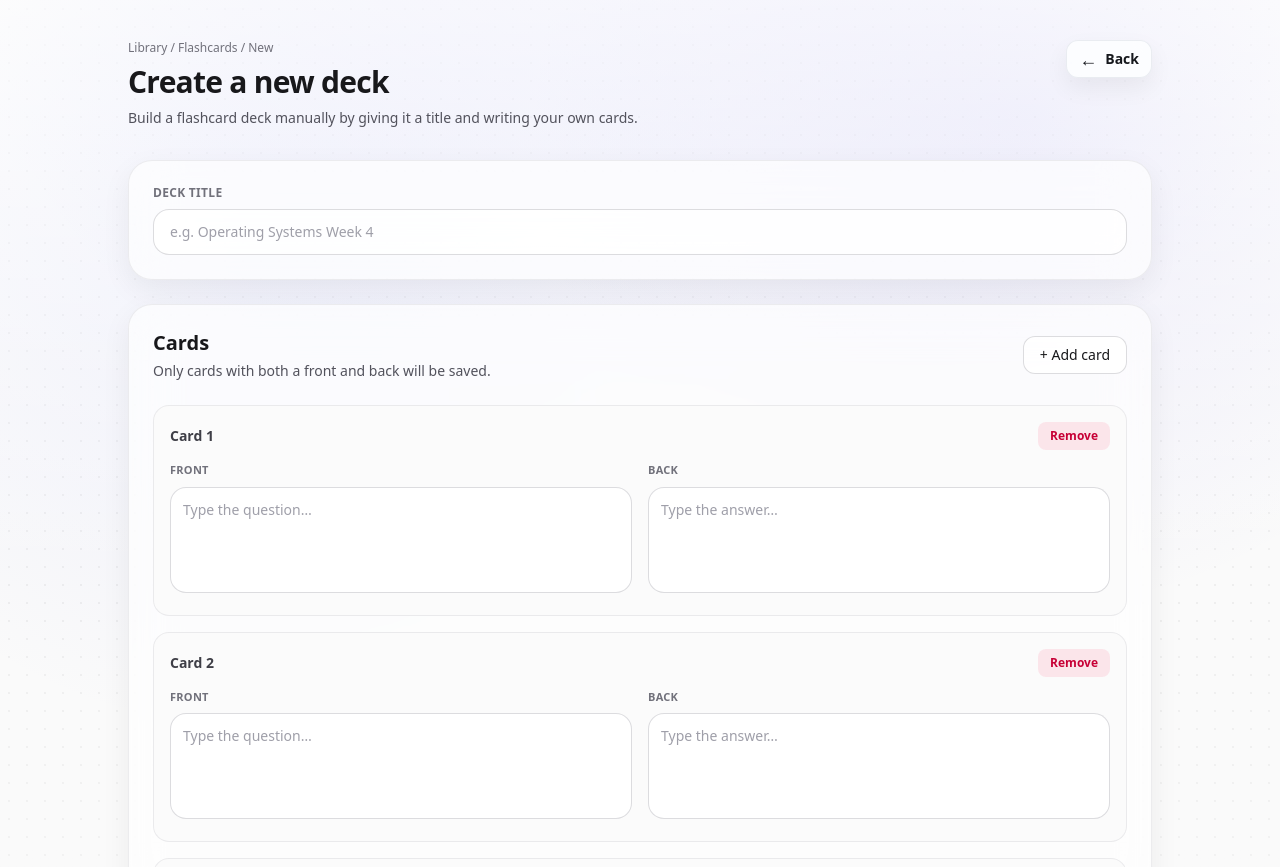
Test: NewDeckPage › does not allow removing the final remaining card
Click the 1st button "Remove": [1074, 436] box [1038,422,1110,450]
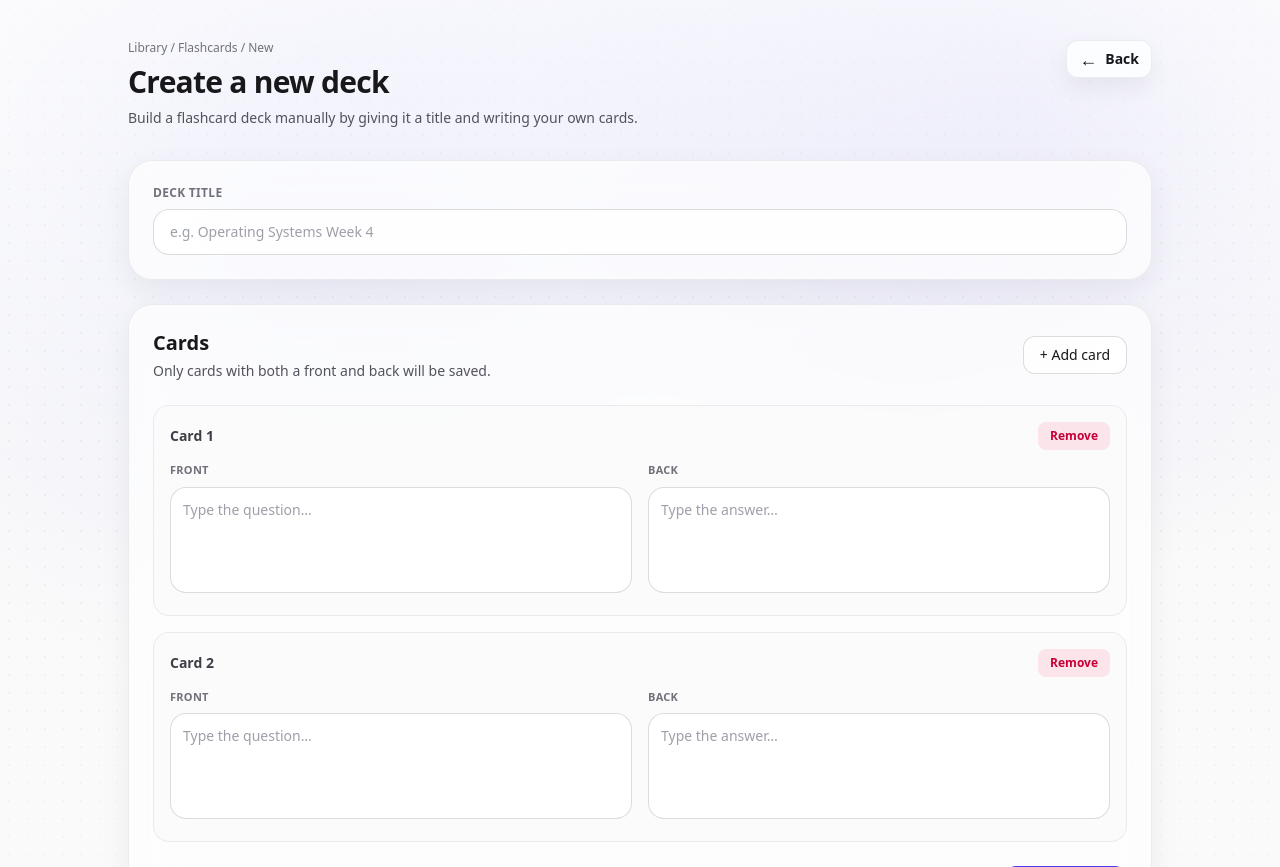
Click the 1st button "Remove": [1074, 436] box [1038,422,1110,450]
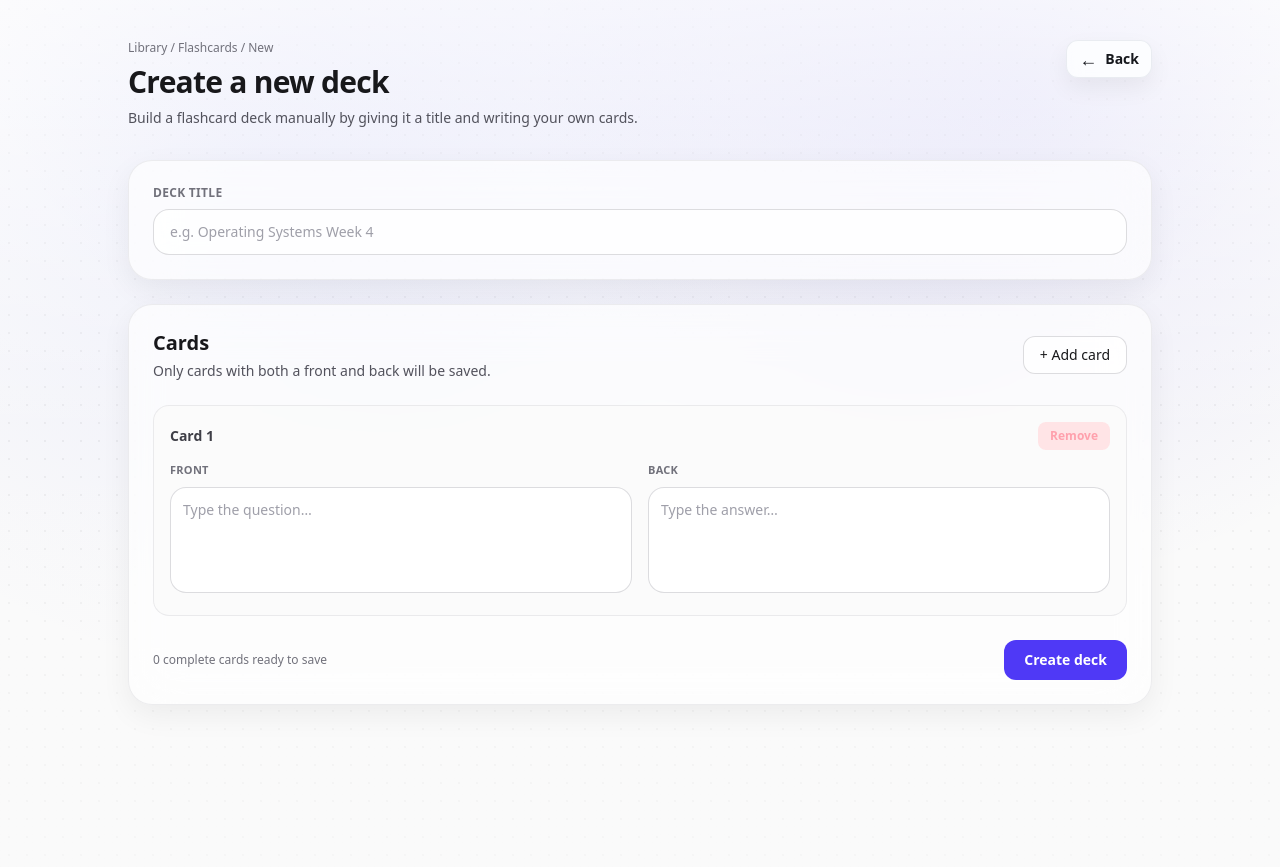
Check: the number of buttons "Remove" is 1, box [1038,422,1110,450]
Check: the button "Remove" is disabled, box [1038,422,1110,450]
